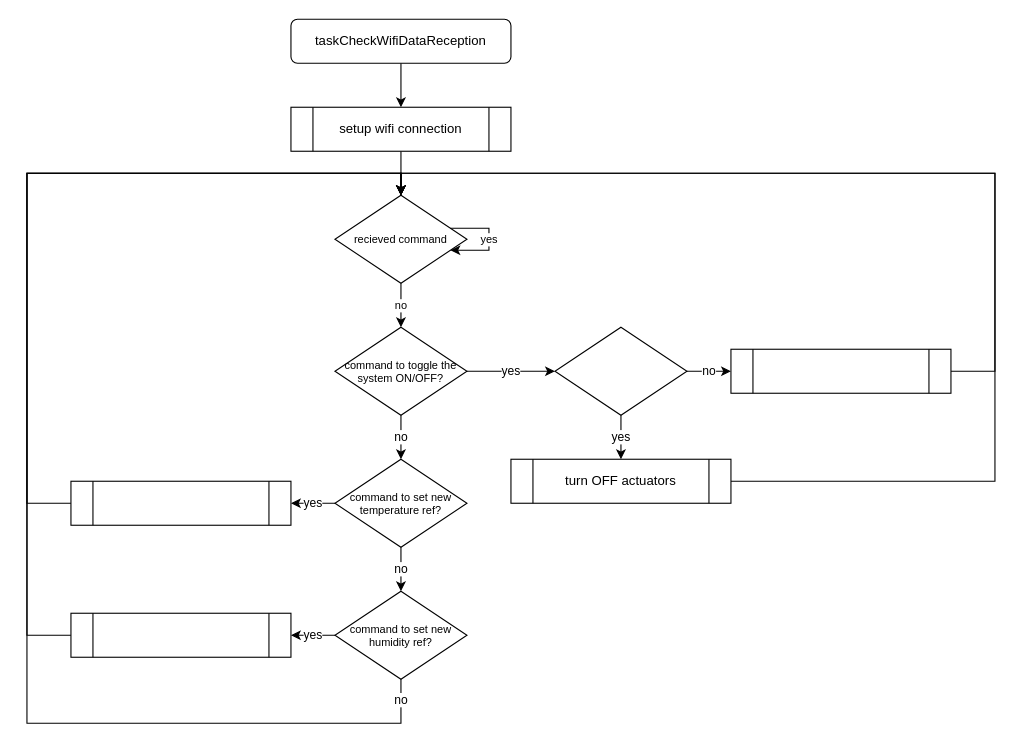
Image size: 1023x751. Some labels were removed from this diagram. The shapes that lost their labels are listed below. From the top down, each one's centre as x and y in pixels, then its label:
pixel 620 370: system ON?
pixel 840 370: turn ON actuators
pixel 180 502: set air temperature
pixel 180 634: set air humidity
